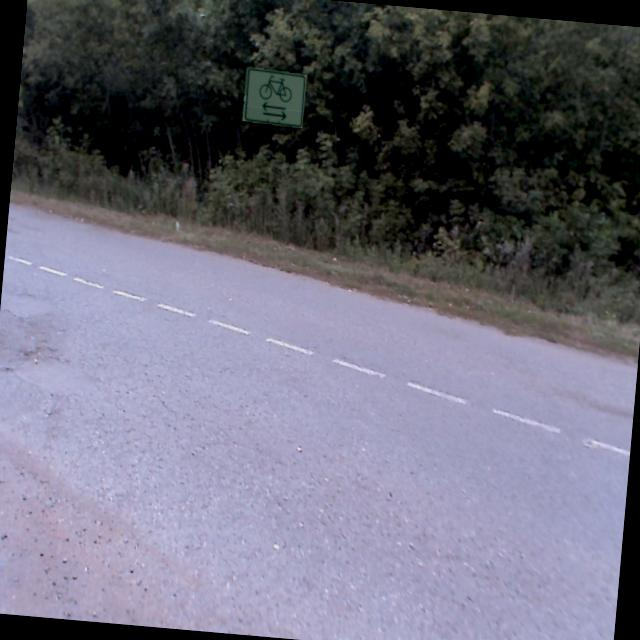road: (0, 203, 637, 640)
